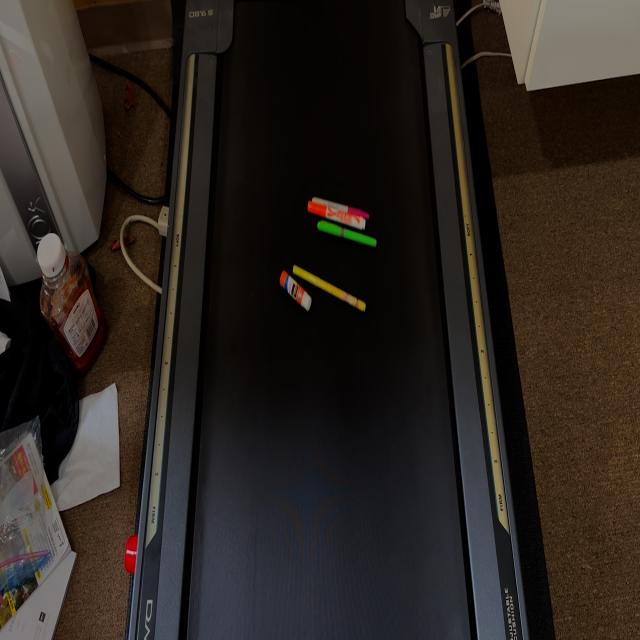Trash: (292, 264, 366, 316), (317, 220, 378, 251), (308, 199, 365, 231), (278, 268, 311, 315), (311, 193, 370, 219)
